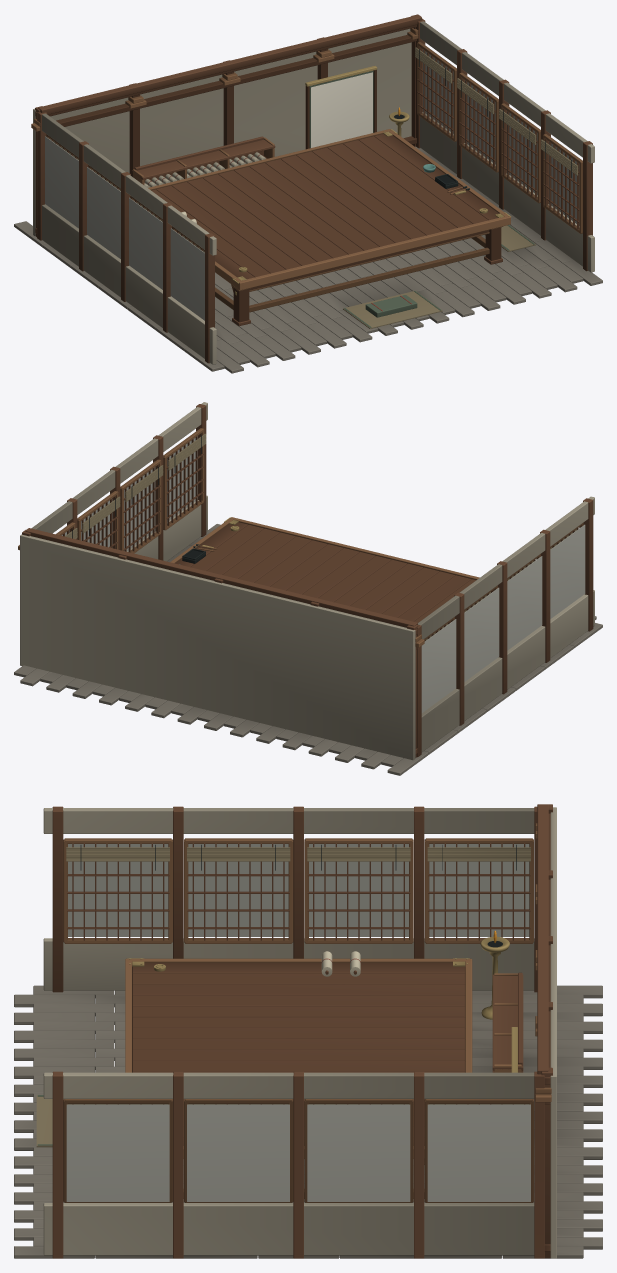
File: atlas-study-v2.glb
3 renders of one model, top to bottom at view 1: azimuth 30°, elevation 25°; view 2: azimuth 150°, elevation 25°; view 3: azimuth 270°, elevation 25°, orthographic. The views are drawn at different scales.
Parts seen in each view (by area): view 1: Study timber, Study wall, Study floor, Study window silk, Study edge, Study screen silk, Study woven reed, Study cushion, Study paper, Study bronze; view 2: Study wall, Study timber, Study window silk, Study floor, Study edge, Study woven reed; view 3: Study timber, Study window silk, Study wall, Study floor, Study edge, Study woven reed, Study bronze.
Part boxes in pixels (x1,y1,x2,y2): Study timber: (35,14,592,363); Study wall: (33,21,594,364); Study floor: (14,146,602,373); Study window silk: (45,49,579,320); Study edge: (31,28,582,312); Study screen silk: (311,72,372,147); Study woven reed: (53,47,578,328); Study cushion: (309,71,534,327); Study paper: (144,152,265,223); Study bronze: (232,66,511,295); Study wall: (20,402,594,760); Study timber: (22,404,593,757); Study window silk: (61,436,585,712); Study floor: (14,524,602,775); Study edge: (18,428,583,647); Study woven reed: (65,433,576,640); Study timber: (52,804,552,1258); Study window silk: (66,844,530,1201); Study wall: (43,807,556,1258); Study floor: (14,985,602,1258); Study edge: (63,823,551,1202); Study woven reed: (36,847,530,1147); Study bronze: (127,936,517,1072).
Size of the model in its own units: 18.35 by 5.91 by 16.64.
